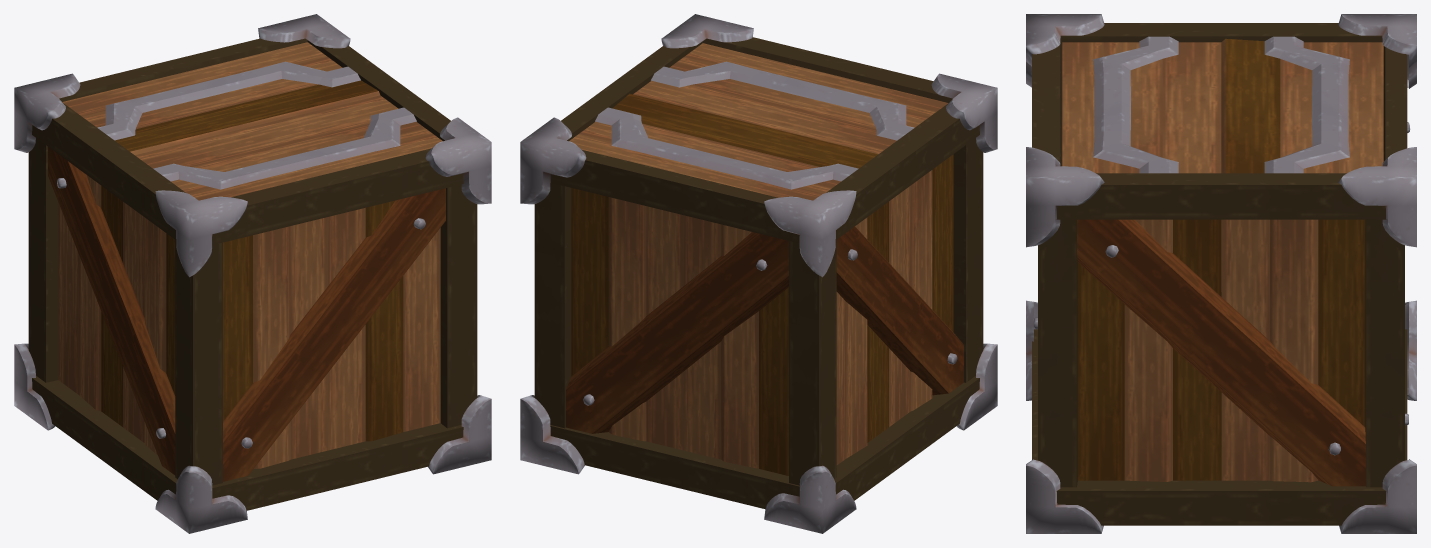
File: crate_metal.glb
3 renders of one model, left to right at view 1: azimuth 30°, elevation 25°; view 2: azimuth 150°, elevation 25°; view 3: azimuth 270°, elevation 25°, orthographic. The views are drawn at different scales.
Visible parts, largest first — view 1: Crate_Metal; view 2: Crate_Metal; view 3: Crate_Metal.
Boxes of the visible parts, box(x1,y1,x2,y2) form: Crate_Metal: box(14, 14, 491, 533); Crate_Metal: box(520, 14, 997, 533); Crate_Metal: box(1026, 14, 1416, 533).
Bounding box in the file's own units: 0.8639 × 0.8679 × 0.8659.
2 materials, 2 textured.
